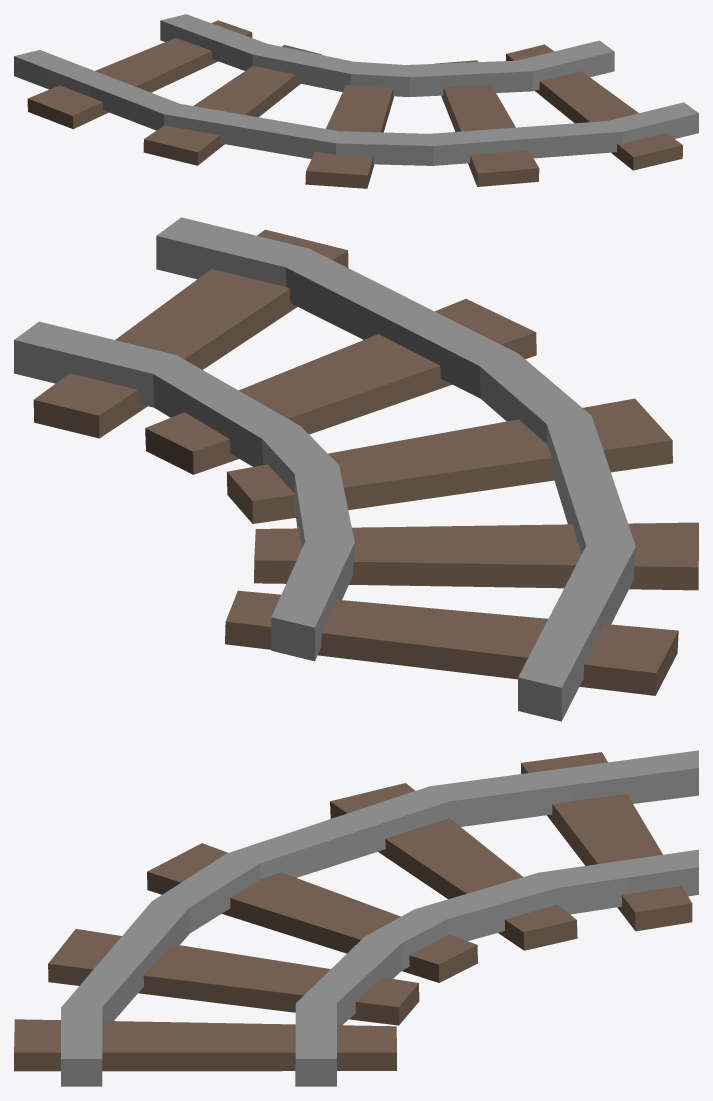
The model's file is Railway_2.fbx.
3 renders of one model, top to bottom at view 1: azimuth 30°, elevation 25°; view 2: azimuth 150°, elevation 25°; view 3: azimuth 270°, elevation 25°, orthographic. The views are drawn at different scales.
Visible parts, largest first — view 1: Railway_2; view 2: Railway_2; view 3: Railway_2.
Boxes of the visible parts, <box> form: Railway_2: <box>14,14,698,188</box>; Railway_2: <box>14,217,698,721</box>; Railway_2: <box>14,750,698,1086</box>.
Bounding box in the file's own units: 414 × 371 × 20.84.
